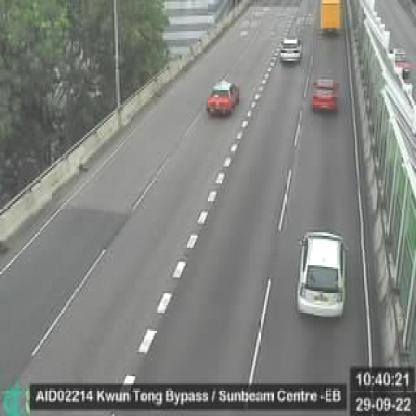Car: (292, 217, 352, 326), (304, 68, 346, 116), (203, 74, 244, 120), (276, 30, 306, 70)
Truck: (313, 0, 342, 45)
